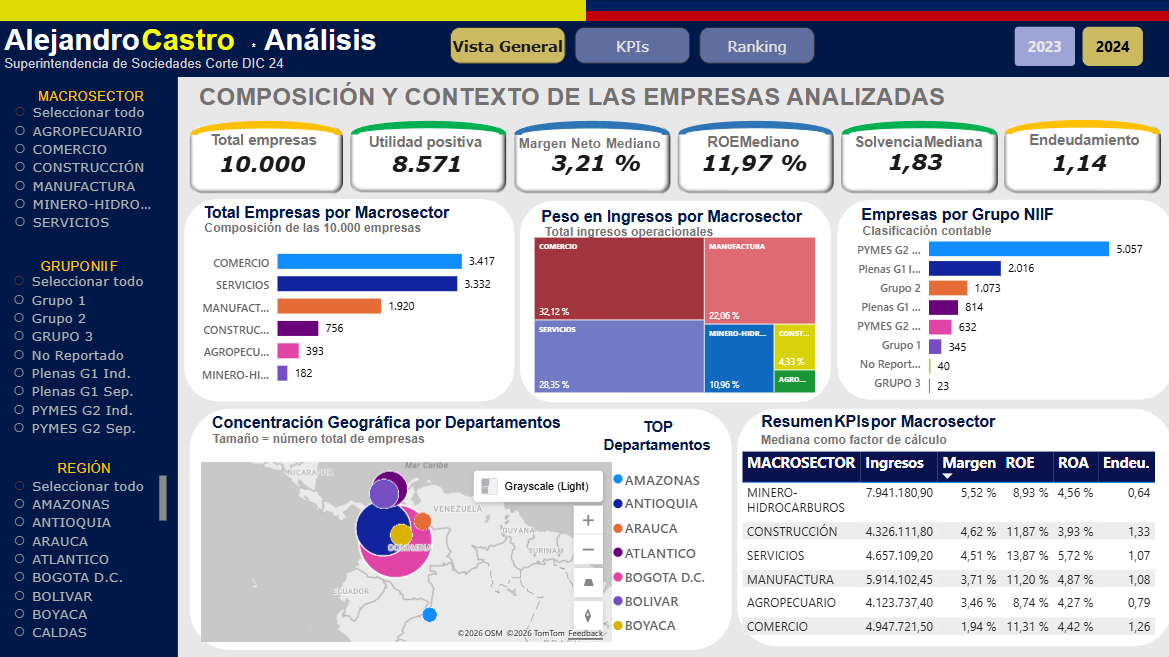

What the dashboard file says about the page in this screenshot:
{"tool":"powerbi","page":{"name":"Vista General","canvas":[1280,720],"ordinal":0},"visuals":[{"type":"cardVisual","fields":{"Data":["Medidas.Total_Empresas"]},"box":[215.1,145.2,145.2,64.5],"z":1000},{"type":"cardVisual","fields":{"Data":["Medidas.%_Empresas_Utilidad_Positiva"]},"box":[374.2,144.1,186,66.7],"z":2000},{"type":"cardVisual","fields":{"Data":["Medidas.Margen_Neto_Mediana"]},"box":[571.6,141.1,160.2,70.5],"z":3000},{"type":"cardVisual","fields":{"Data":["Medidas.ROE_Mediana"]},"box":[736.6,139.8,176.3,72],"z":4000},{"type":"cardVisual","fields":{"Data":["10000_Empresas_Final.Solvencia_Mediana"]},"box":[938.7,138.7,123.7,73.1],"z":5000},{"type":"cardVisual","fields":{"Data":["Medidas.Endeudamiento_Mediana"]},"box":[1112.9,139.8,132.3,73.1],"z":6000},{"type":"clusteredBarChart","fields":{"Category":["10000_Empresas_Final.MACROSECTOR"],"Y":["Medidas.Total Empresas"],"Series":["10000_Empresas_Final.MACROSECTOR"]},"box":[201.4,254.3,344.3,180],"z":7000},{"type":"treemap","fields":{"Group":["10000_Empresas_Final.MACROSECTOR"],"Values":["Medidas.%_Participación_Ingresos"]},"box":[579,254.5,315.9,179],"z":8000},{"type":"clusteredBarChart","fields":{"Category":["10000_Empresas_Final.GRUPO EN NIIF"],"Y":["Medidas.Total Empresas"],"Series":["10000_Empresas_Final.GRUPO EN NIIF"]},"box":[918,242,334,200],"z":9000},{"type":"azureMap","fields":{"Category":["Ubicacion_Geografica.DEPARTAMENTO"],"Y":["Avg(Ubicacion_Geografica.LATITUD)"],"X":["Avg(Ubicacion_Geografica.LONGITUD)"],"Series":["Ubicacion_Geografica.Leyenda Departamento"],"Size":["Medidas.Total Empresas"]},"box":[215,498,570,207],"z":10000},{"type":"tableEx","fields":{"Values":["10000_Empresas_Final.MACROSECTOR","Medidas.Ingresos_OP_Mediana","Medidas.Margen_Neto_Mediana","Medidas.ROE_Mediana","Medidas.ROA_Mediana","Medidas.Endeudamiento_Mediana"]},"box":[804.9,487.8,475.6,217.1],"z":11000},{"type":"listSlicer","fields":{"Values":["10000_Empresas_Final.MACROSECTOR"]},"box":[10.7,106.7,177.3,160],"z":12000},{"type":"listSlicer","fields":{"Values":["10000_Empresas_Final.GRUPO EN NIIF"]},"box":[10,291.4,180,190],"z":13000},{"type":"pageNavigator","box":[491.8,30,400,40],"z":14000},{"type":"listSlicer","fields":{"Values":["10000_Empresas_Final.DEPARTAMENTO DOMICILIO"]},"box":[10,513.5,178.2,191.2],"z":15000},{"type":"advancedSlicerVisual","fields":{"Values":["10000_Empresas_Final.AÑO"]},"box":[1102.6,23.5,150.4,53.9],"z":16000}]}

Visuals, with their boxes in screenshot pixels (x1, y1, x2, y2), scaled from the page's 1280x720 canvas onto the 1169x657 screenshot:
cardVisual - Medidas.Total_Empresas: (196,132,329,191)
cardVisual - Medidas.%_Empresas_Utilidad_Positiva: (342,131,512,192)
cardVisual - Medidas.Margen_Neto_Mediana: (522,129,668,193)
cardVisual - Medidas.ROE_Mediana: (673,128,834,193)
cardVisual - 10000_Empresas_Final.Solvencia_Mediana: (857,127,970,193)
cardVisual - Medidas.Endeudamiento_Mediana: (1016,128,1137,194)
clusteredBarChart - 10000_Empresas_Final.MACROSECTOR x Medidas.Total Empresas: (184,232,498,396)
treemap - 10000_Empresas_Final.MACROSECTOR x Medidas.%_Participación_Ingresos: (529,232,817,396)
clusteredBarChart - 10000_Empresas_Final.GRUPO EN NIIF x Medidas.Total Empresas: (838,221,1143,403)
azureMap - Ubicacion_Geografica.DEPARTAMENTO x Avg(Ubicacion_Geografica.LATITUD): (196,454,717,643)
tableEx - 10000_Empresas_Final.MACROSECTOR x Medidas.Ingresos_OP_Mediana: (735,445,1168,643)
listSlicer - 10000_Empresas_Final.MACROSECTOR: (10,97,172,243)
listSlicer - 10000_Empresas_Final.GRUPO EN NIIF: (9,266,174,439)
pageNavigator: (449,27,814,64)
listSlicer - 10000_Empresas_Final.DEPARTAMENTO DOMICILIO: (9,469,172,643)
advancedSlicerVisual - 10000_Empresas_Final.AÑO: (1007,21,1144,71)
